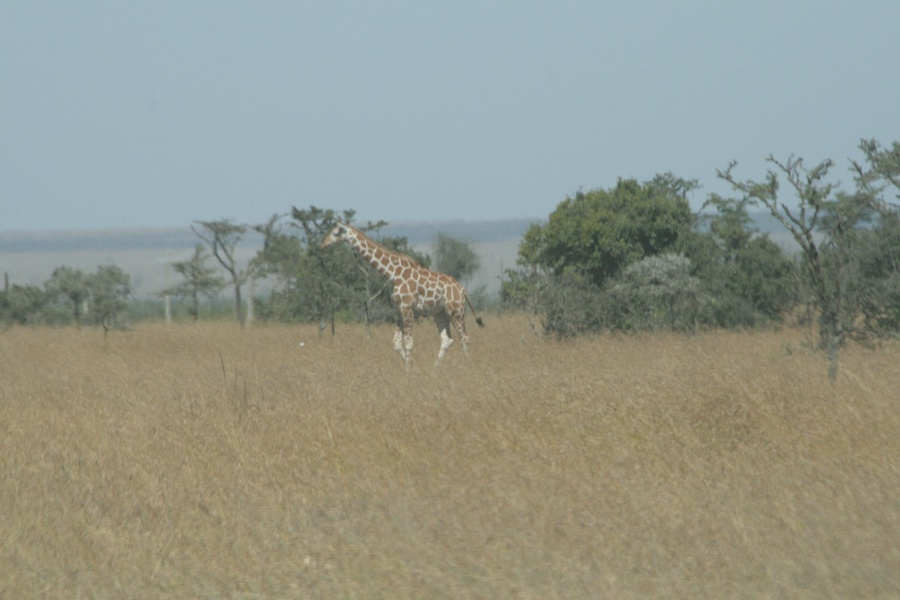giraffe: (317, 215, 483, 378)
